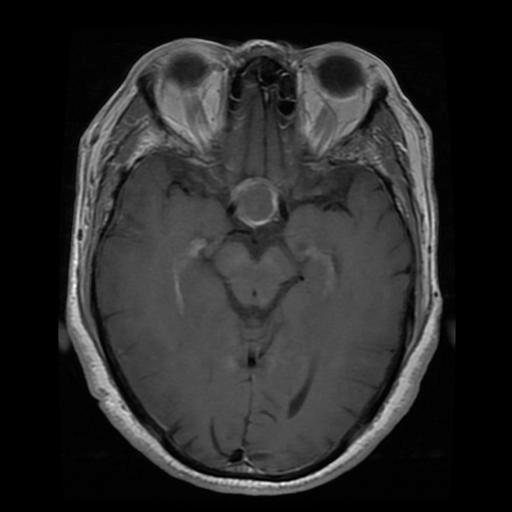Tumour-Pituitary: (231, 177, 282, 239)
